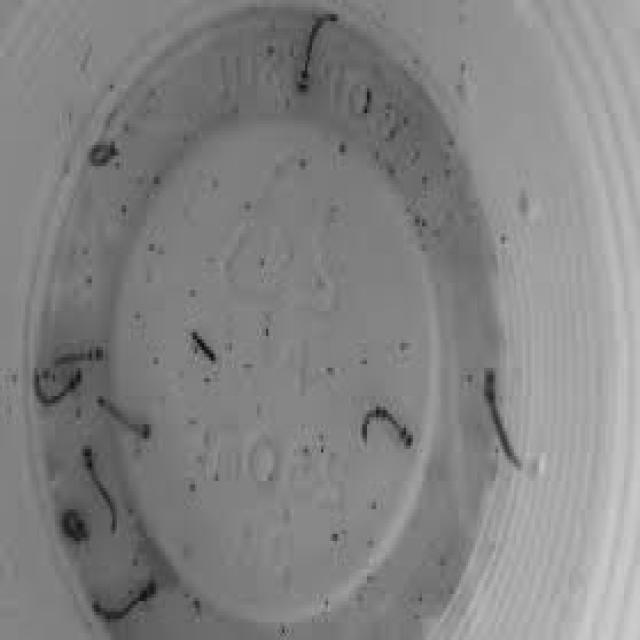larvas: (484, 364, 523, 469), (296, 12, 335, 94), (83, 449, 118, 532), (97, 392, 150, 436), (93, 585, 158, 619), (362, 406, 412, 442), (34, 369, 86, 403), (48, 348, 104, 377), (59, 508, 88, 543), (91, 134, 117, 167), (192, 331, 214, 358)
